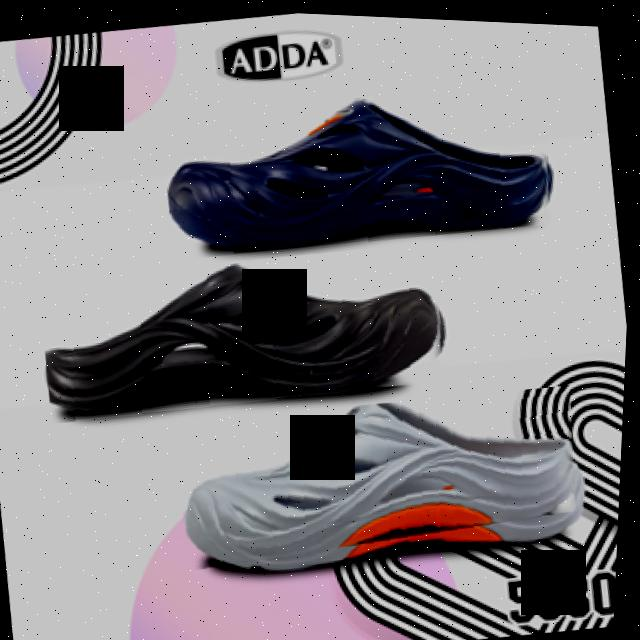shoe: (173, 366, 595, 583), (36, 224, 461, 437), (157, 63, 565, 272)
